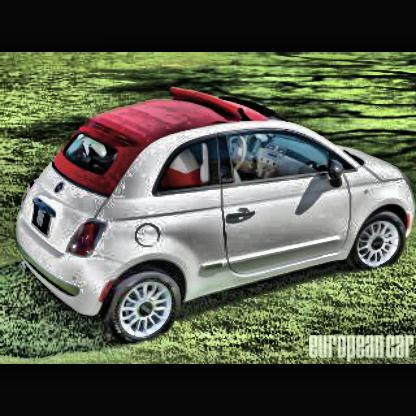FIAT 500 Convertible 2012: (16, 85, 416, 345)
